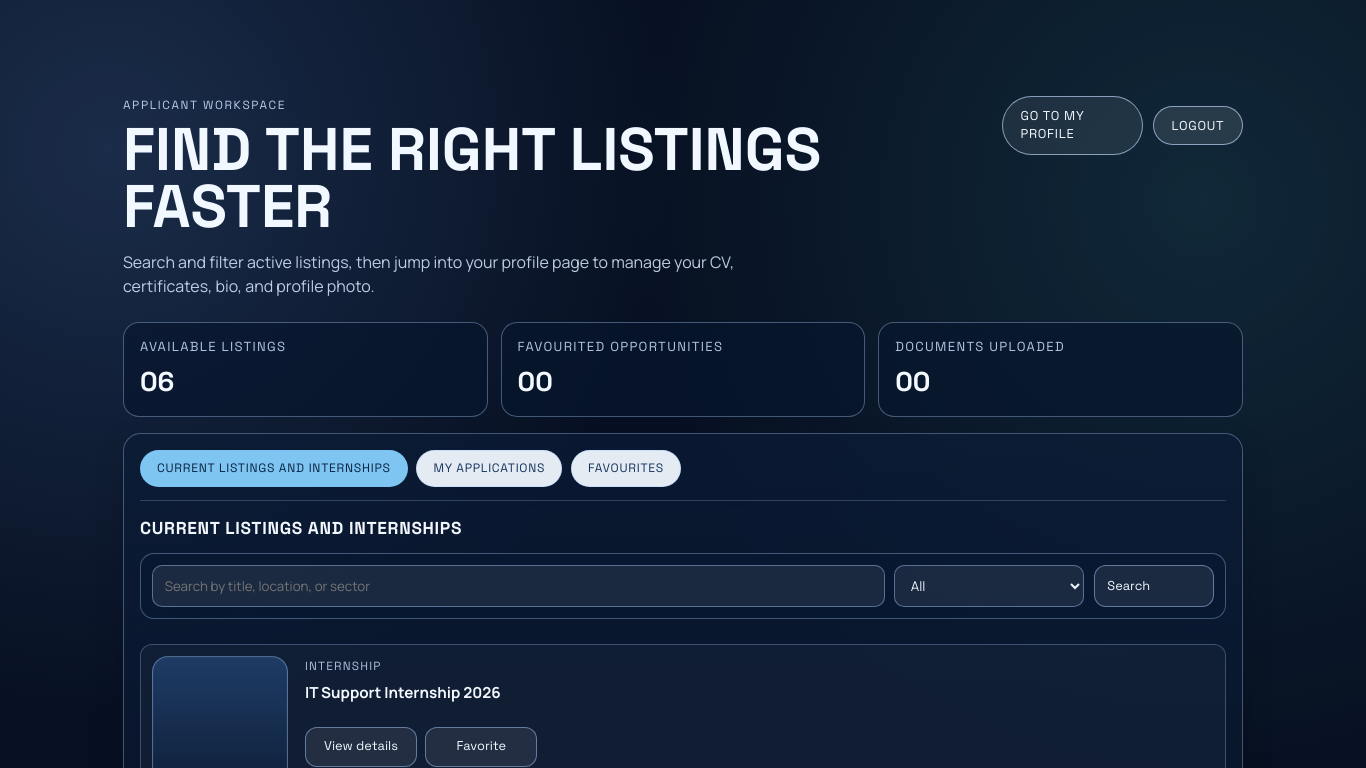
Applicant search listings › uses the search term and type filter together
The image size is (1366, 768).
Type "customer" into the search field with placeholder "Search by title, location, or sector" at (518, 586), box x1=152 y1=565 x2=885 y2=607
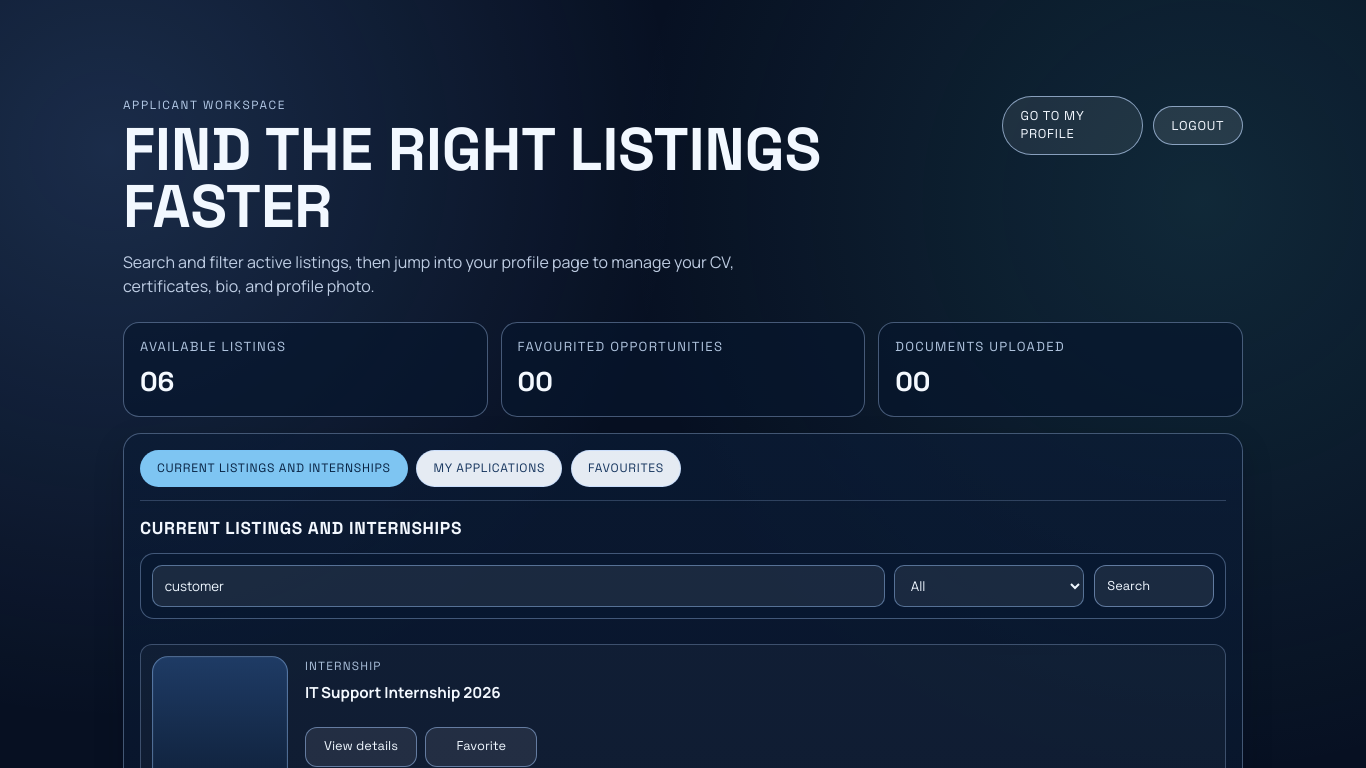
Select "Internship" in the dropdown named "Filter listing type" at (989, 586), box x1=894 y1=565 x2=1084 y2=607
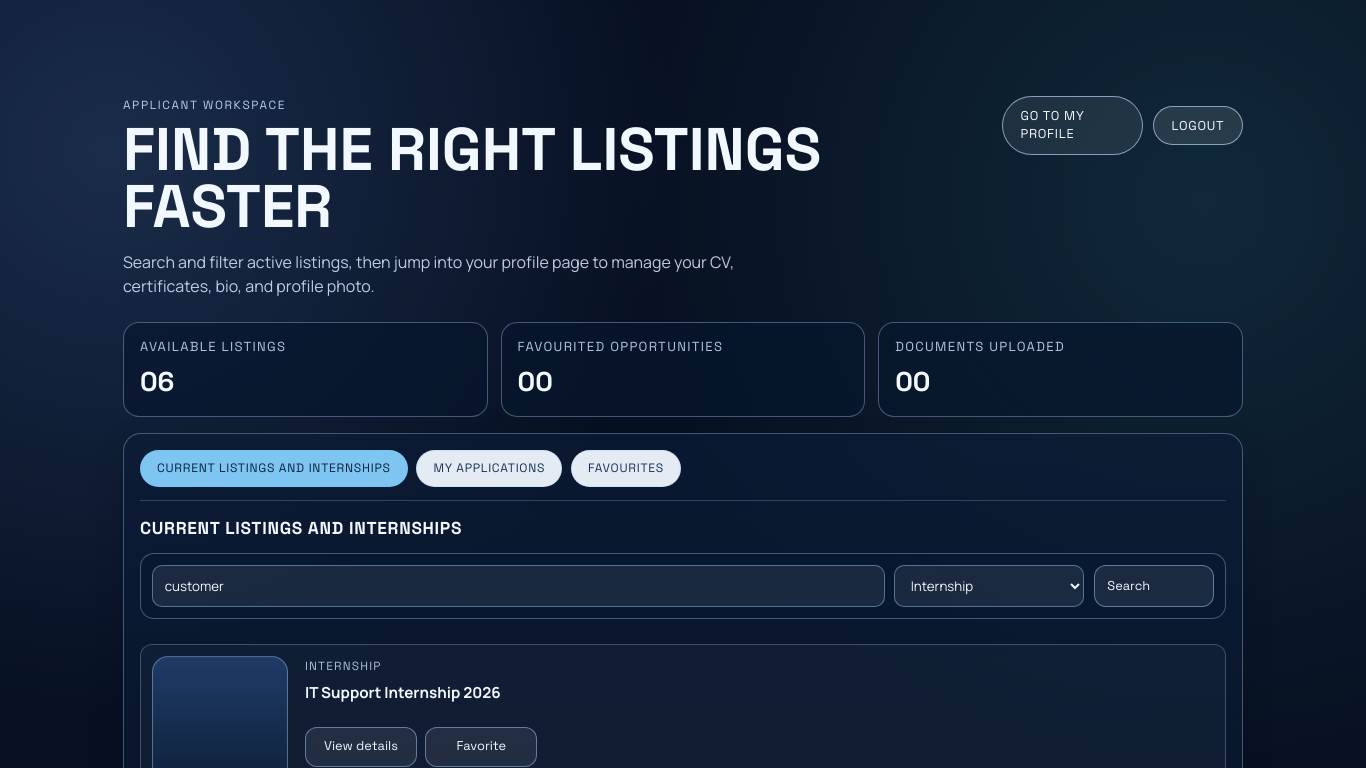
Click the button "Search" at (1154, 586), box x1=1094 y1=565 x2=1214 y2=607
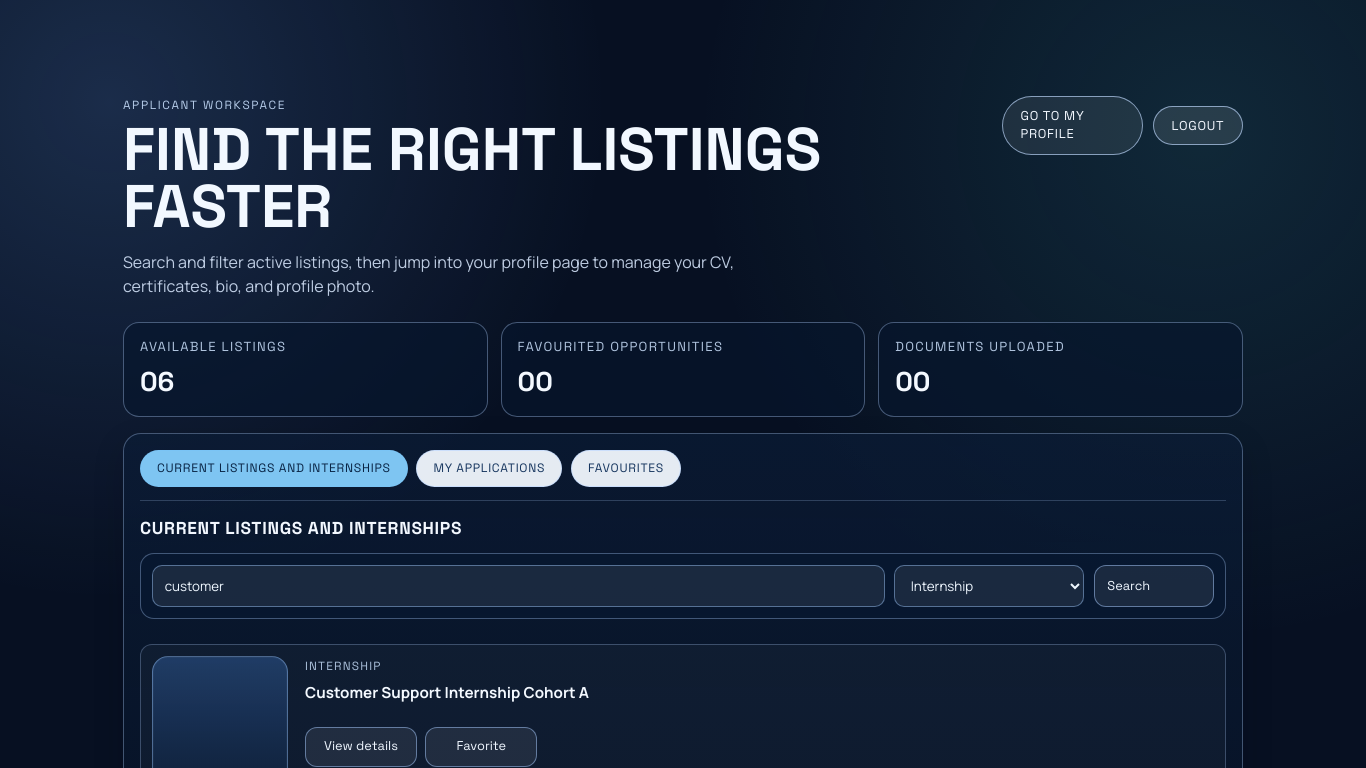
Check: the text "Customer Support Internship Cohort A" is shown, box x1=305 y1=682 x2=589 y2=703
Check: the text "IT Support Internship 2026" is gone
